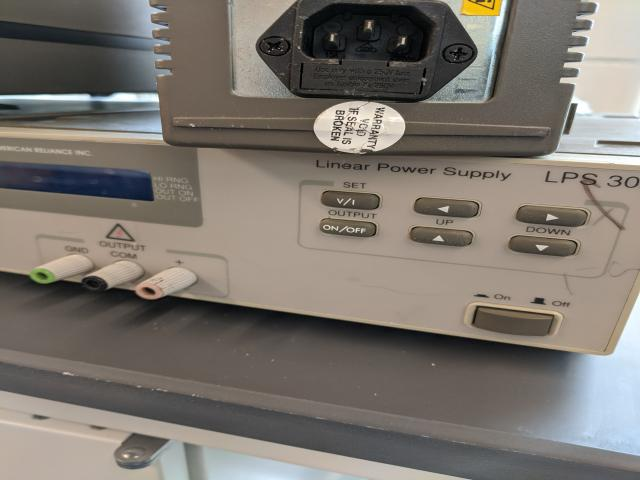CRS: (443, 42, 475, 65), (261, 37, 289, 56)
